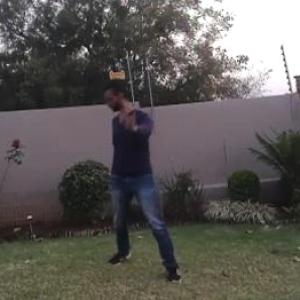takeoff-hand: (115, 99, 143, 135)
